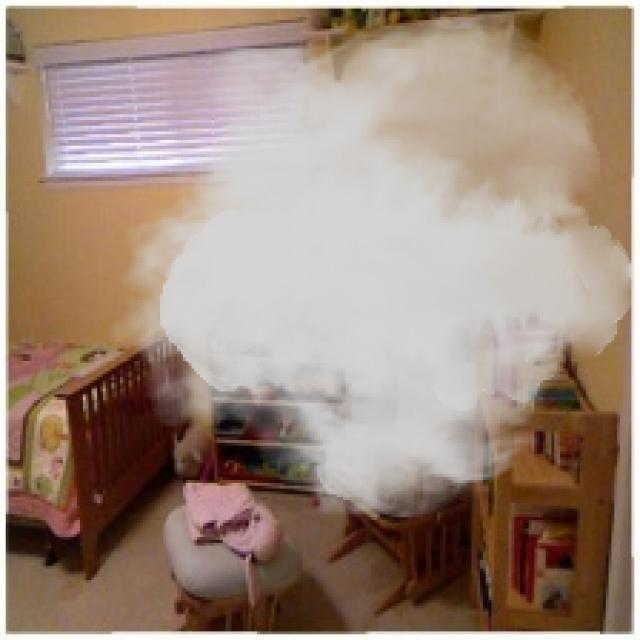Smoke: (106, 3, 634, 526)
